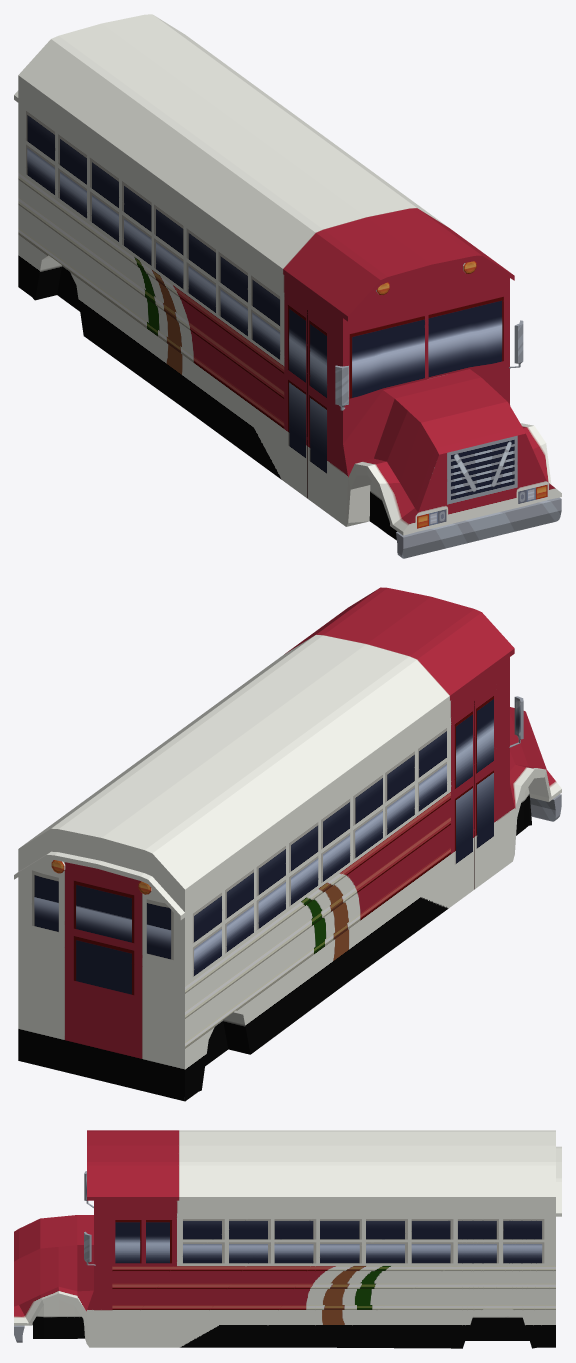
The model's file is Bus.fbx.
The picture shows the model from 3 angles, top to bottom: view 1: azimuth 30°, elevation 25°; view 2: azimuth 150°, elevation 25°; view 3: azimuth 270°, elevation 25°; orthographic projection. The views are drawn at different scales.
Visible parts, largest first — view 1: AutoBus Cuerpo, Defensa Delantera; view 2: AutoBus Cuerpo, Defensa Delantera; view 3: AutoBus Cuerpo.
Boxes of the visible parts, bbox=[...] form: AutoBus Cuerpo: bbox=[14, 14, 561, 540]; Defensa Delantera: bbox=[396, 497, 561, 558]; AutoBus Cuerpo: bbox=[14, 587, 561, 1101]; Defensa Delantera: bbox=[530, 794, 561, 821]; AutoBus Cuerpo: bbox=[14, 1130, 561, 1348].
Size of the model in its own units: 282 by 350 by 1000.
Materials: 3 (3 with a texture image).
